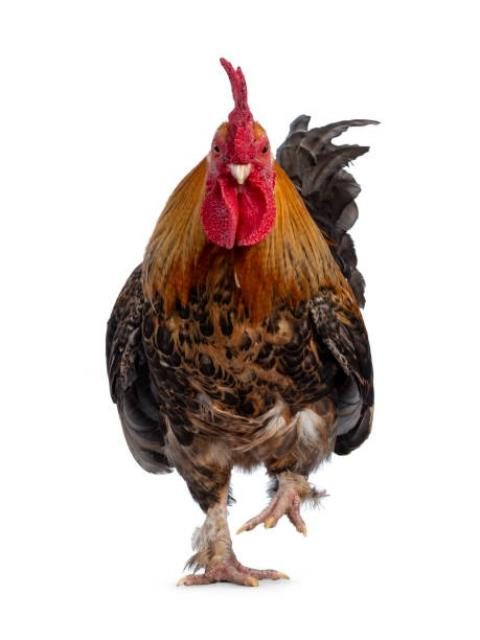Chicken: (105, 56, 382, 587)
